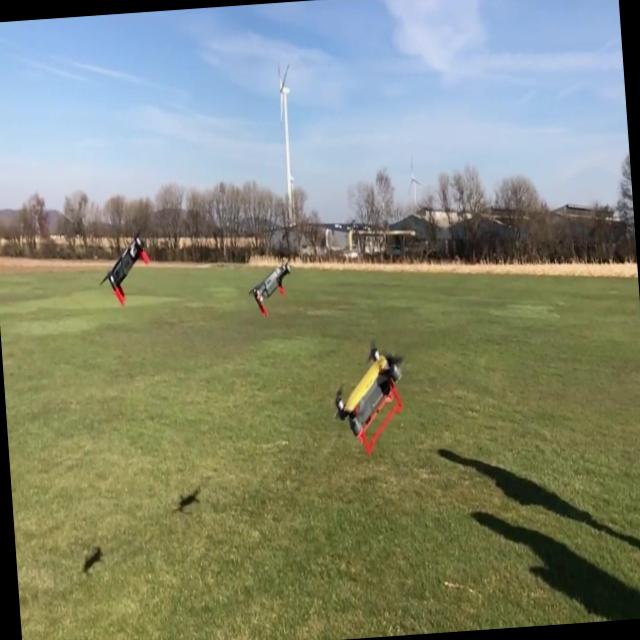drone: (327, 339, 411, 462), (96, 227, 153, 306), (244, 252, 296, 324)
